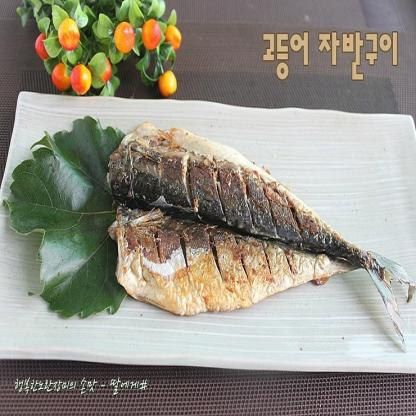Peixe: (104, 128, 415, 376)
